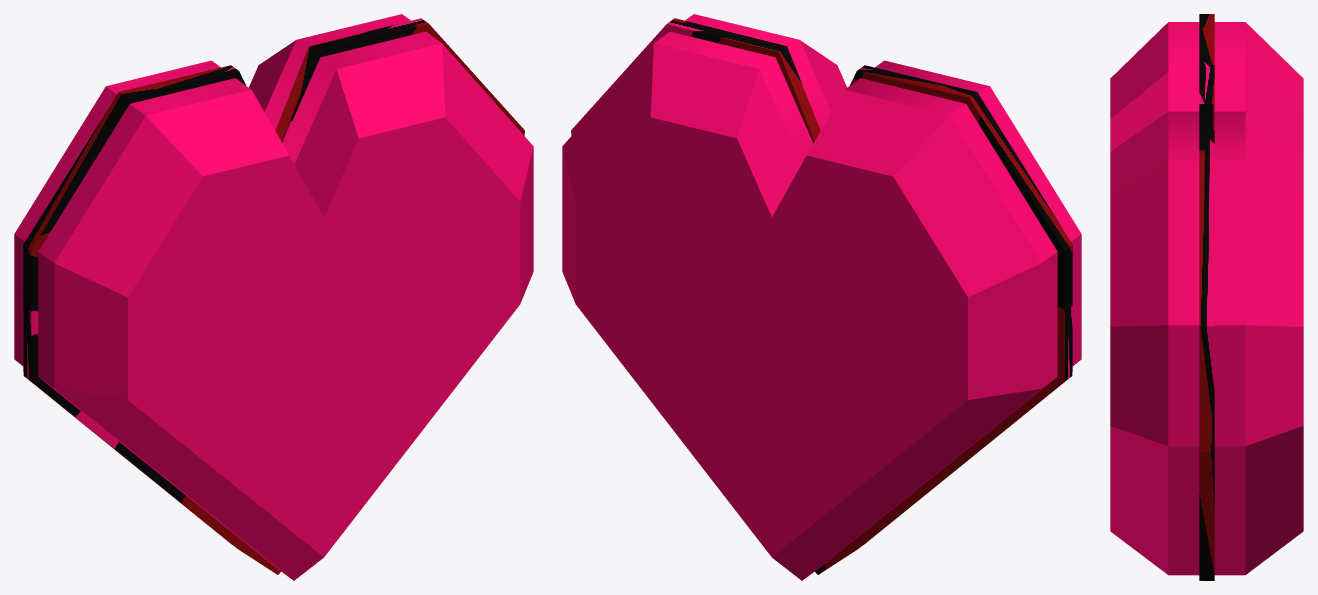
The model's file is heart_1.fbx.
3 views of the same model, side by side, from view 1: azimuth 30°, elevation 25°; view 2: azimuth 150°, elevation 25°; view 3: azimuth 270°, elevation 25° (orthographic). The views are drawn at different scales.
Parts seen in each view (by area): view 1: pCube1; view 2: pCube1; view 3: pCube1.
Part boxes in pixels (left/top/right/bottom): pCube1: left=14, top=14, right=533, bottom=580; pCube1: left=562, top=14, right=1081, bottom=580; pCube1: left=1110, top=14, right=1303, bottom=580.
Size of the model in its own units: 1.03 by 1.03 by 0.3622.
